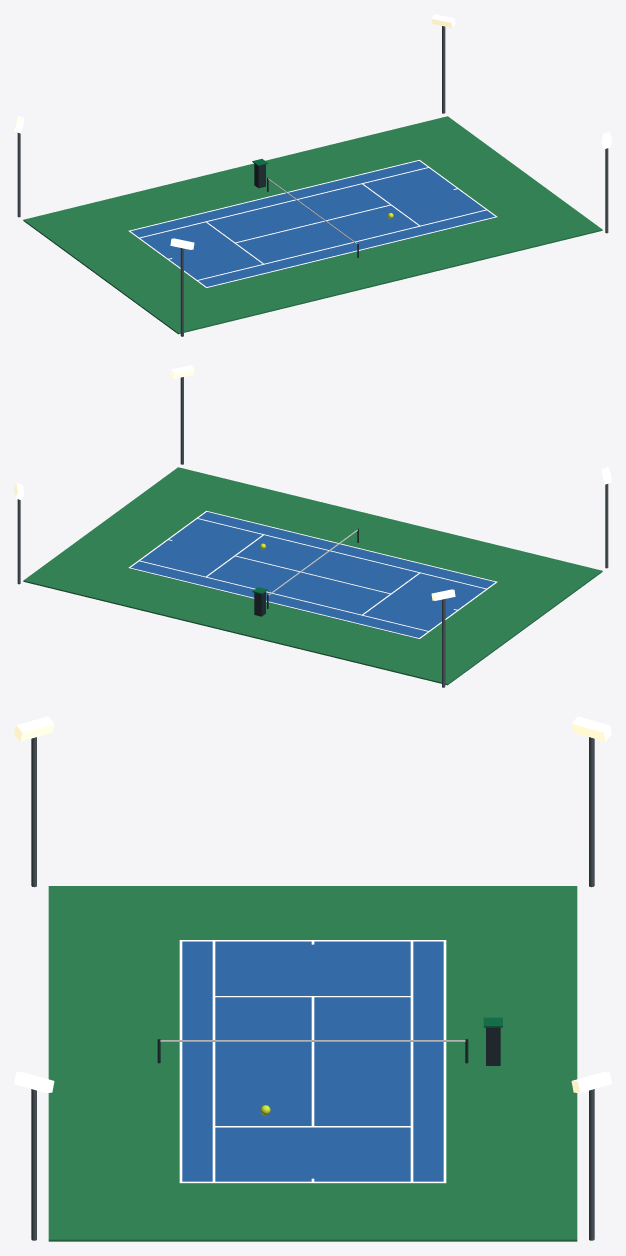
The model's file is tennis-court.glb.
3 renders of one model, top to bottom at view 1: azimuth 30°, elevation 25°; view 2: azimuth 150°, elevation 25°; view 3: azimuth 270°, elevation 25°, orthographic. The views are drawn at different scales.
Visible parts, largest first — view 1: object 1, object 2, object 4, object 3, object 7, object 8; view 2: object 1, object 2, object 4, object 8, object 3, object 7; view 3: object 1, object 2, object 3, object 4, object 7, object 8, object 24, object 26, object 20, object 22, object 6.
Part boxes in pixels (<box>): object 1: <box>23,116,602,334</box>; object 2: <box>131,161,496,287</box>; object 4: <box>206,216,497,287</box>; object 3: <box>128,160,419,231</box>; object 7: <box>138,167,429,238</box>; object 8: <box>197,209,487,280</box>; object 1: <box>23,467,602,685</box>; object 2: <box>129,512,494,638</box>; object 4: <box>206,511,497,582</box>; object 8: <box>197,518,487,589</box>; object 3: <box>128,567,418,638</box>; object 7: <box>138,560,428,631</box>; object 1: <box>48,886,577,1241</box>; object 2: <box>181,941,444,1183</box>; object 3: <box>443,940,446,1183</box>; object 4: <box>179,940,182,1183</box>; object 7: <box>410,940,413,1183</box>; object 8: <box>212,940,215,1183</box>; object 24: <box>589,1089,594,1240</box>; object 26: <box>31,1089,36,1240</box>; object 20: <box>589,737,594,887</box>; object 22: <box>31,737,36,887</box>; object 6: <box>182,1181,443,1183</box>.
Bounding box in the file's own units: 36.19 × 7.62 × 24.85.
